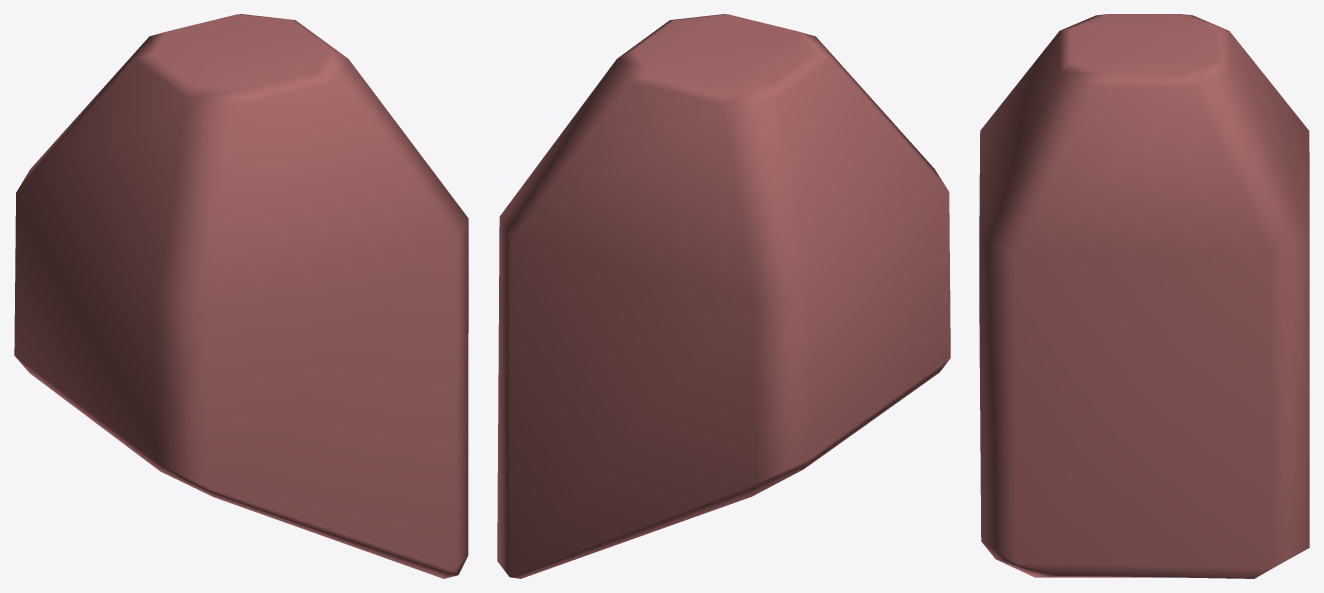
File: PlatformDetail.fbx
3 renders of one model, left to right at view 1: azimuth 30°, elevation 25°; view 2: azimuth 150°, elevation 25°; view 3: azimuth 270°, elevation 25°, orthographic. The views are drawn at different scales.
Parts seen in each view (by area): view 1: PlatformDetail; view 2: PlatformDetail; view 3: PlatformDetail.
Boxes of the visible parts, x1,y1,x2,y2 form: PlatformDetail: (14, 14, 468, 578); PlatformDetail: (497, 14, 950, 578); PlatformDetail: (979, 14, 1309, 578).
Bounding box in the file's own units: 102 × 159 × 102.
